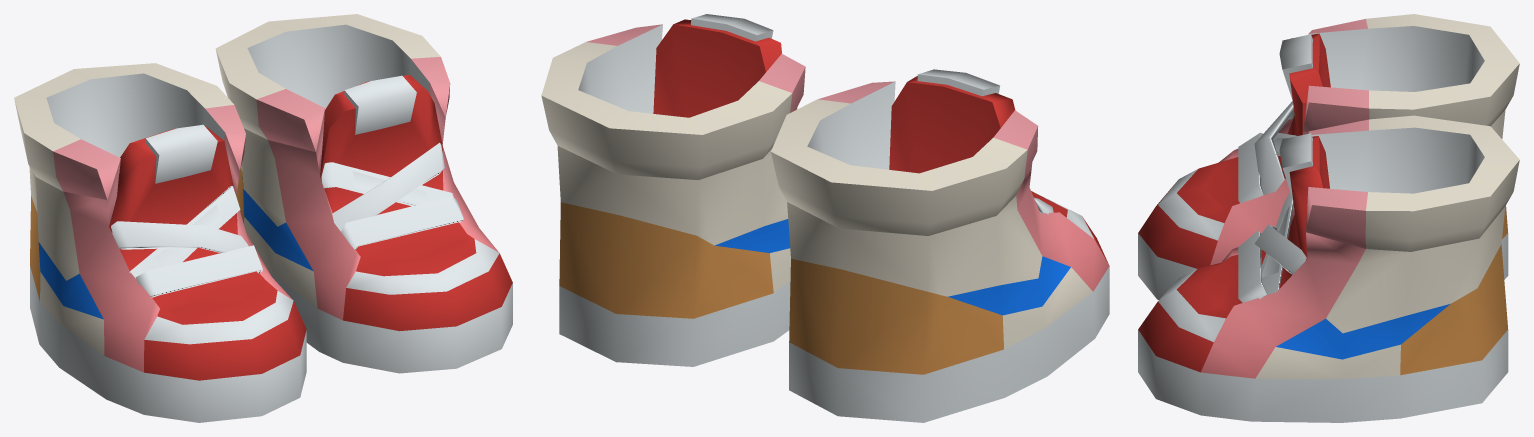
File: Shoes_9.fbx
3 renders of one model, left to right at view 1: azimuth 30°, elevation 25°; view 2: azimuth 150°, elevation 25°; view 3: azimuth 270°, elevation 25°, orthographic. The views are drawn at different scales.
Parts seen in each view (by area): view 1: Shoes_9; view 2: Shoes_9; view 3: Shoes_9.
Boxes of the visible parts, bbox=[...] form: Shoes_9: bbox=[14, 14, 512, 422]; Shoes_9: bbox=[541, 14, 1109, 422]; Shoes_9: bbox=[1138, 14, 1519, 422].
Bounding box in the file's own units: 41.7 × 22.5 × 34.02.
